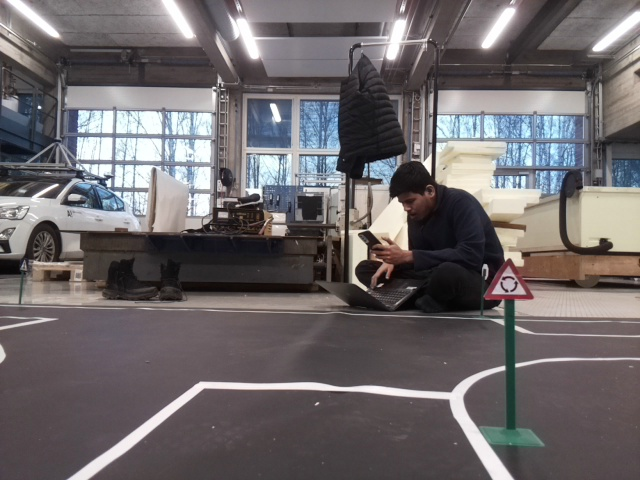Roundabout: (481, 257, 533, 298)
